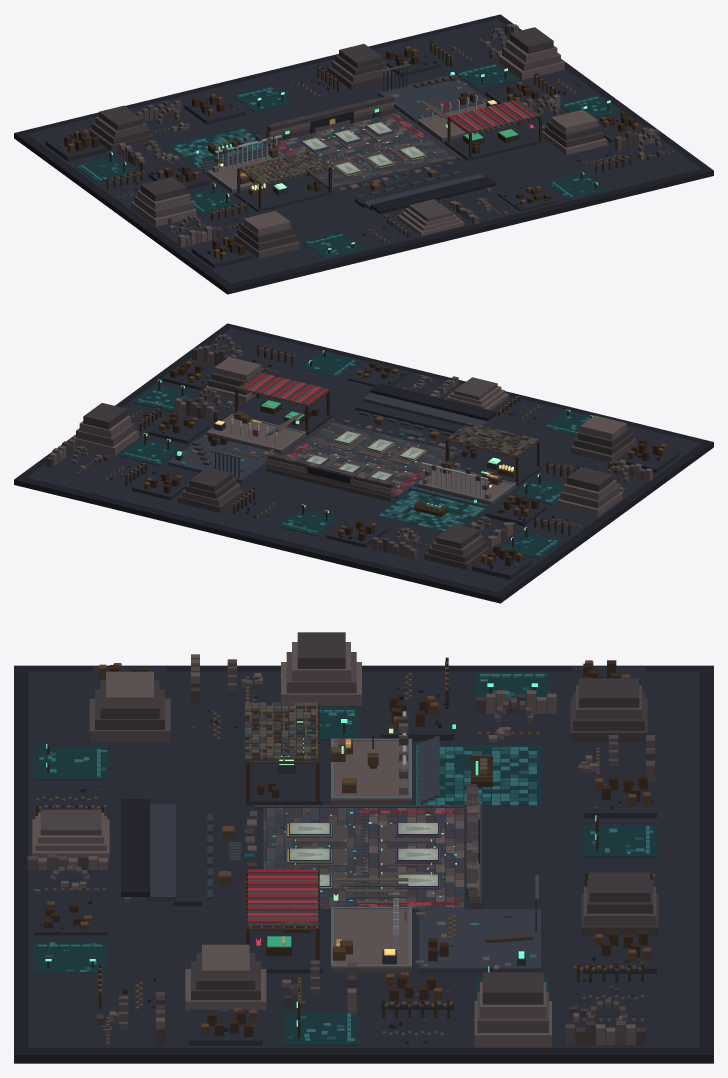
File: black-market.glb
3 renders of one model, top to bottom at view 1: azimuth 30°, elevation 25°; view 2: azimuth 150°, elevation 25°; view 3: azimuth 270°, elevation 25°, orthographic. The views are drawn at different scales.
Parts seen in each view (by area): view 1: 01_Undercroft_Floor_Base, Outer_Masonry_Pier, 00_Deep_Undercroft_Bedrock, Outer_Barrel_Alcove, Outer_Canal_Pocket, Outer_Vaulted_Buttress, East_Gambling_Alcove, West_Alchemy_Den, East_Secret_Stairwell, South_Outer_Vaults, 02_Central_Vault_Stones, Landmark_BlackMarket_Auction (+6 smaller); view 2: 01_Undercroft_Floor_Base, Outer_Masonry_Pier, 00_Deep_Undercroft_Bedrock, Outer_Barrel_Alcove, Outer_Canal_Pocket, Outer_Vaulted_Buttress, South_Outer_Vaults, East_Gambling_Alcove, West_Alchemy_Den, West_Canal_Dock, East_Secret_Stairwell, Landmark_BlackMarket_Auction (+6 smaller); view 3: 01_Undercroft_Floor_Base, Outer_Masonry_Pier, 00_Deep_Undercroft_Bedrock, Outer_Barrel_Alcove, Outer_Canal_Pocket, Outer_Vaulted_Buttress, South_Outer_Vaults, East_Secret_Stairwell, West_Alchemy_Den, East_Gambling_Alcove, West_Canal_Dock, East_Weapons_Fence (+7 smaller).
Boxes of the visible parts, box(x1,y1,x2,y2) form: 01_Undercroft_Floor_Base: box(26, 19, 701, 283); Outer_Masonry_Pier: box(87, 27, 607, 258); 00_Deep_Undercroft_Bedrock: box(14, 14, 713, 294); Outer_Barrel_Alcove: box(45, 46, 644, 268); Outer_Canal_Pocket: box(74, 63, 620, 258); Outer_Vaulted_Buttress: box(118, 24, 673, 247); East_Gambling_Alcove: box(444, 99, 541, 160); West_Alchemy_Den: box(234, 150, 332, 212); East_Secret_Stairwell: box(378, 63, 487, 122); South_Outer_Vaults: box(355, 170, 496, 217); 02_Central_Vault_Stones: box(310, 135, 456, 188); Landmark_BlackMarket_Auction: box(266, 93, 399, 141); 01_Undercroft_Floor_Base: box(26, 328, 701, 592); Outer_Masonry_Pier: box(72, 357, 636, 569); 00_Deep_Undercroft_Bedrock: box(14, 323, 713, 603); Outer_Barrel_Alcove: box(131, 361, 678, 579); Outer_Canal_Pocket: box(119, 350, 592, 558); Outer_Vaulted_Buttress: box(46, 334, 652, 559); South_Outer_Vaults: box(355, 383, 496, 434); East_Gambling_Alcove: box(235, 372, 331, 434); West_Alchemy_Den: box(445, 422, 541, 485); West_Canal_Dock: box(378, 486, 489, 532); East_Secret_Stairwell: box(168, 433, 278, 483); Landmark_BlackMarket_Auction: box(262, 451, 394, 501); 01_Undercroft_Floor_Base: box(28, 671, 699, 1048); Outer_Masonry_Pier: box(32, 632, 658, 1047); 00_Deep_Undercroft_Bedrock: box(14, 665, 713, 1063); Outer_Barrel_Alcove: box(34, 660, 656, 1045); Outer_Canal_Pocket: box(34, 672, 656, 1045); Outer_Vaulted_Buttress: box(27, 654, 654, 1045); South_Outer_Vaults: box(121, 799, 201, 906); East_Secret_Stairwell: box(415, 875, 540, 973); West_Alchemy_Den: box(245, 702, 323, 805); East_Gambling_Alcove: box(246, 869, 323, 973); West_Canal_Dock: box(416, 721, 540, 807); East_Weapons_Fence: box(331, 878, 411, 973).
Bounding box in the file's own units: 50 × 3.91 × 38.
Materials: 45 (1 with a texture image).
